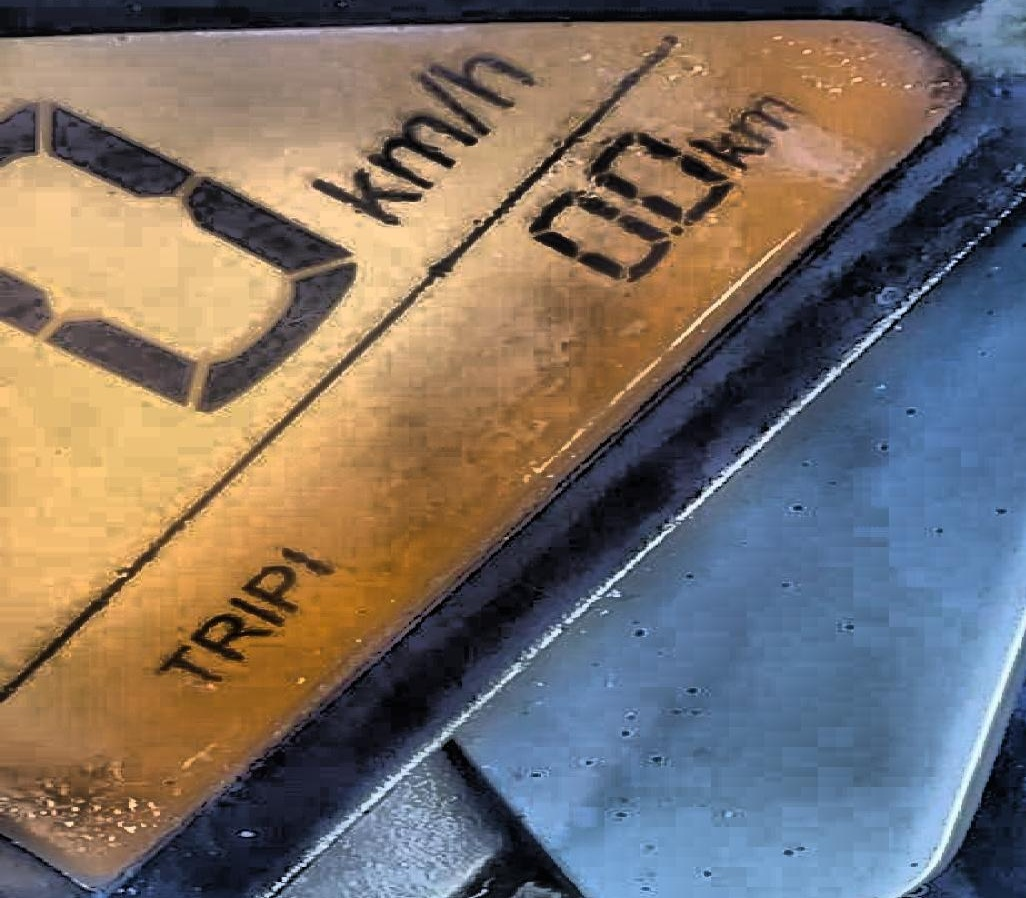-: (664, 220, 684, 235)
0: (0, 77, 360, 408), (589, 132, 738, 223), (524, 190, 668, 284)
1: (275, 539, 342, 575)
X: (348, 113, 484, 187), (302, 168, 428, 230), (424, 49, 542, 105), (404, 68, 497, 139), (186, 613, 273, 658), (731, 92, 804, 141), (684, 128, 768, 169), (237, 567, 315, 611), (142, 643, 220, 685), (213, 592, 284, 629)
